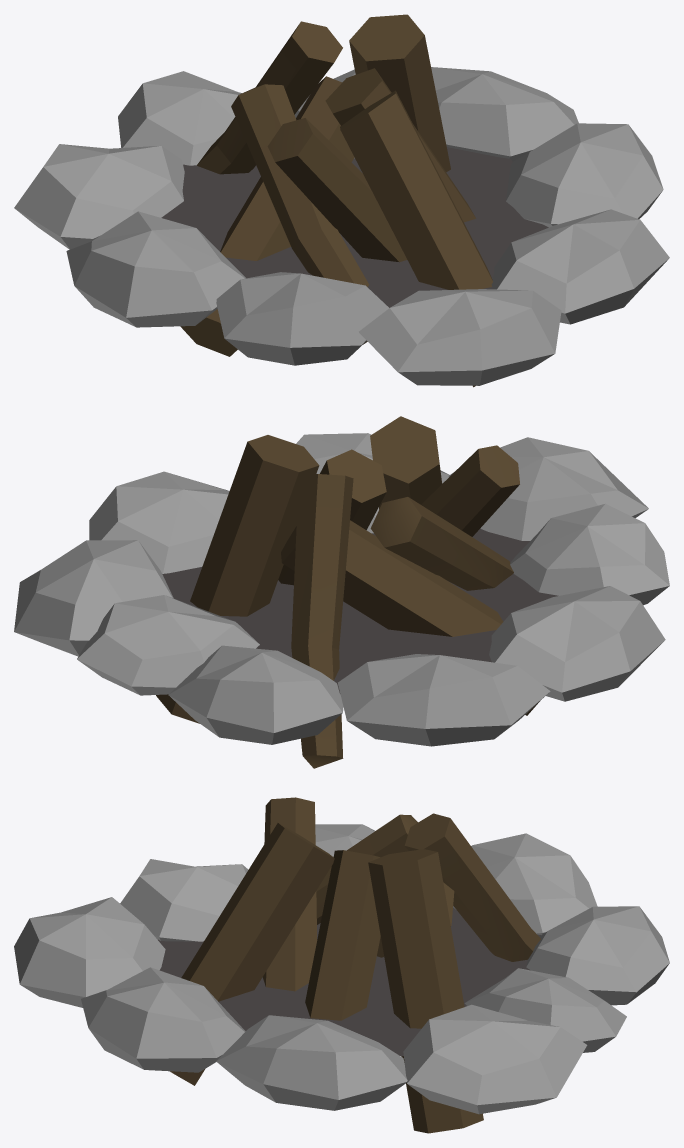
File: FirePlace.fbx
3 views of the same model, one above another, from view 1: azimuth 30°, elevation 25°; view 2: azimuth 150°, elevation 25°; view 3: azimuth 270°, elevation 25° (orthographic). The views are drawn at different scales.
Parts seen in each view (by area): view 1: pSphere1, pSphere6, pCube1, pCylinder3, pSphere3, pSphere2, pSphere7, pSphere4, pSphere5, pCylinder1, pCylinder6, pSphere8 (+4 smaller); view 2: pSphere7, pCylinder4, pSphere6, pSphere8, pCylinder7, pCube1, pSphere9, pSphere5, pSphere2, pCylinder2, pSphere4, pSphere1 (+5 smaller); view 3: pSphere5, pCylinder4, pSphere4, pCylinder3, pSphere3, pSphere1, pCube1, pSphere8, pCylinder5, pCylinder7, pSphere7, pSphere2 (+4 smaller).
Part boxes in pixels (<box>): pSphere1: <box>359,289,561,385</box>; pSphere6: <box>66,211,245,327</box>; pCube1: <box>161,147,548,307</box>; pCylinder3: <box>340,90,492,387</box>; pSphere3: <box>491,209,669,324</box>; pSphere2: <box>216,272,388,365</box>; pSphere7: <box>14,144,184,249</box>; pSphere4: <box>506,123,663,227</box>; pSphere5: <box>431,67,578,161</box>; pCylinder1: <box>267,118,407,262</box>; pCylinder6: <box>231,84,369,344</box>; pSphere8: <box>118,71,241,165</box>; pSphere7: <box>338,654,550,746</box>; pCylinder4: <box>156,435,319,723</box>; pSphere6: <box>489,586,665,701</box>; pSphere8: <box>168,645,343,744</box>; pCylinder7: <box>291,474,353,768</box>; pCube1: <box>162,528,558,693</box>; pSphere9: <box>77,595,259,695</box>; pSphere5: <box>14,540,173,656</box>; pSphere2: <box>510,503,669,605</box>; pCylinder2: <box>281,520,539,715</box>; pSphere4: <box>89,471,229,573</box>; pSphere1: <box>448,437,648,540</box>; pSphere5: <box>403,1004,587,1114</box>; pCylinder4: <box>368,849,483,1133</box>; pSphere4: <box>216,1015,407,1110</box>; pCylinder3: <box>170,823,334,1085</box>; pSphere3: <box>81,967,245,1072</box>; pSphere1: <box>14,897,165,1007</box>; pCube1: <box>158,907,540,1056</box>; pSphere8: <box>526,906,669,1005</box>; pCylinder5: <box>305,850,380,1020</box>; pCylinder7: <box>404,813,540,961</box>; pSphere7: <box>453,833,597,935</box>; pSphere2: <box>120,859,248,941</box>.
Bounding box in the file's own units: 7.1 × 3.37 × 7.72.
